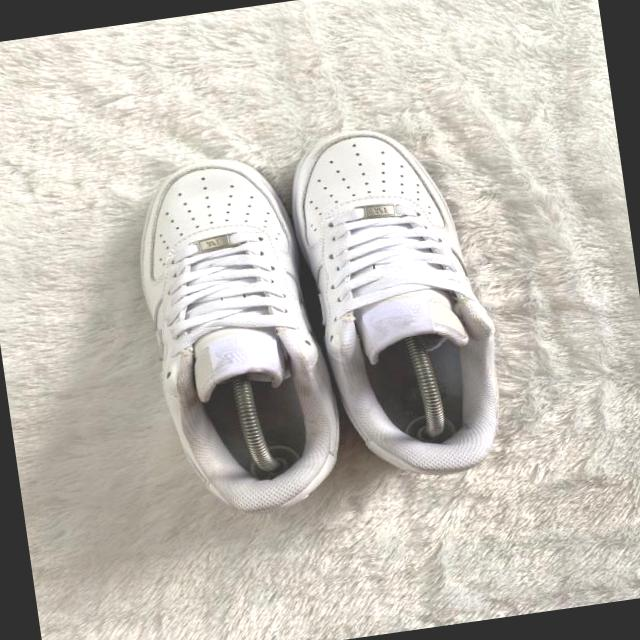nike_fake_airforce: (276, 116, 520, 492), (118, 147, 355, 528)
